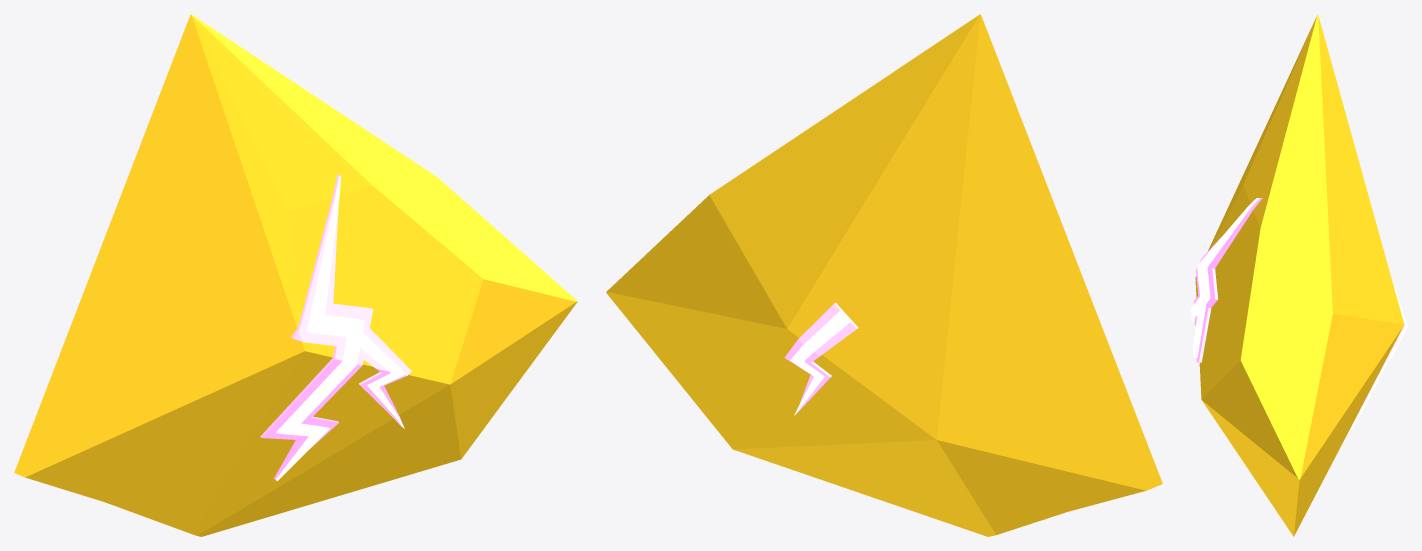
Rendered from thundra_fragment.glb.
The picture shows the model from 3 angles, left to right: view 1: azimuth 30°, elevation 25°; view 2: azimuth 150°, elevation 25°; view 3: azimuth 270°, elevation 25°; orthographic projection. The views are drawn at different scales.
Parts seen in each view (by area): view 1: thundra_fragment; view 2: thundra_fragment; view 3: thundra_fragment.
Part boxes in pixels (bbox=[...]): thundra_fragment: bbox=[14, 14, 577, 536]; thundra_fragment: bbox=[606, 14, 1162, 536]; thundra_fragment: bbox=[1191, 14, 1407, 536].
Size of the model in its own units: 0.18 by 0.1607 by 0.0727.
